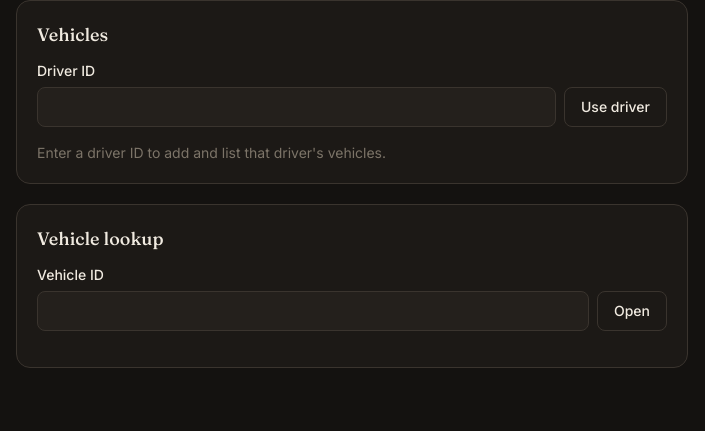
Test: Feature: ridenow-frontend, Task 11.5: driver/vehicle not-found and conflict handling › shows a not-found message when getVehicle rejects with ApiError.notFound (Req 5.4)
In the field labelled "Vehicle ID": (313, 311) [37,291,589,331], type "missing-vehicle-9"
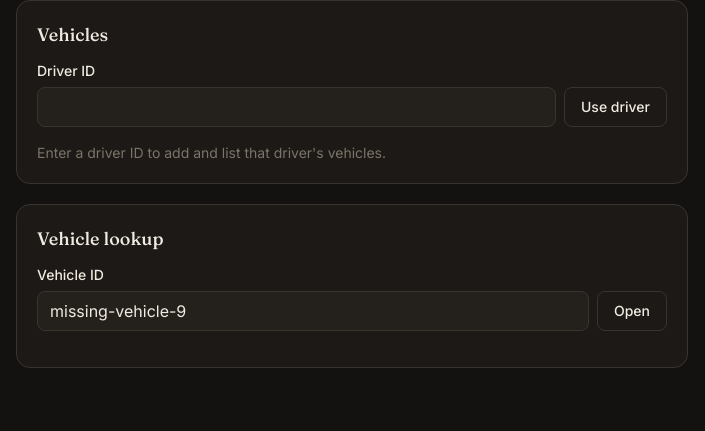
Click the button "Open": (632, 311) [597,291,667,331]
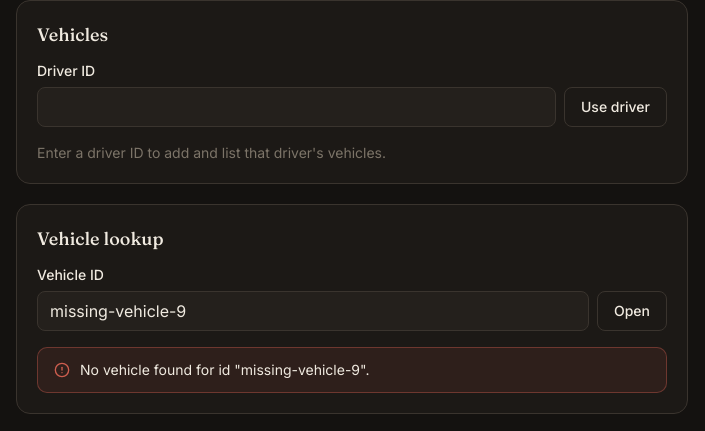
Expected: the text "No vehicle found for id \"missing-vehicle-9\"." is shown, [80,360,370,380]
